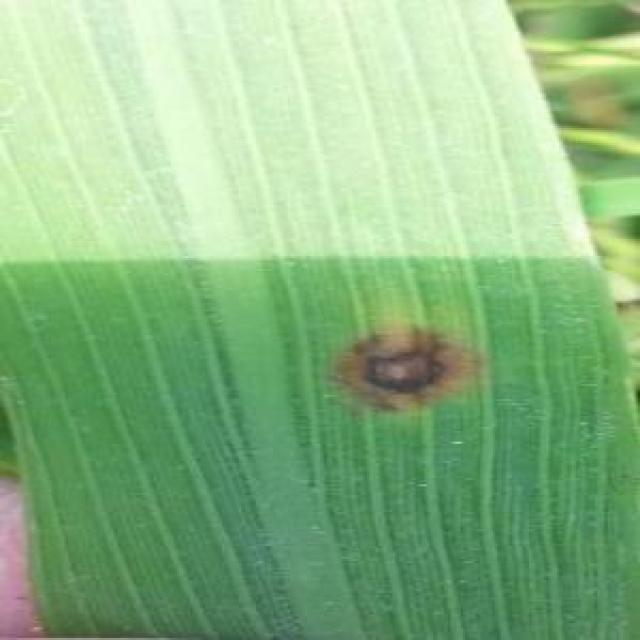brownspots: (342, 328, 472, 404)
